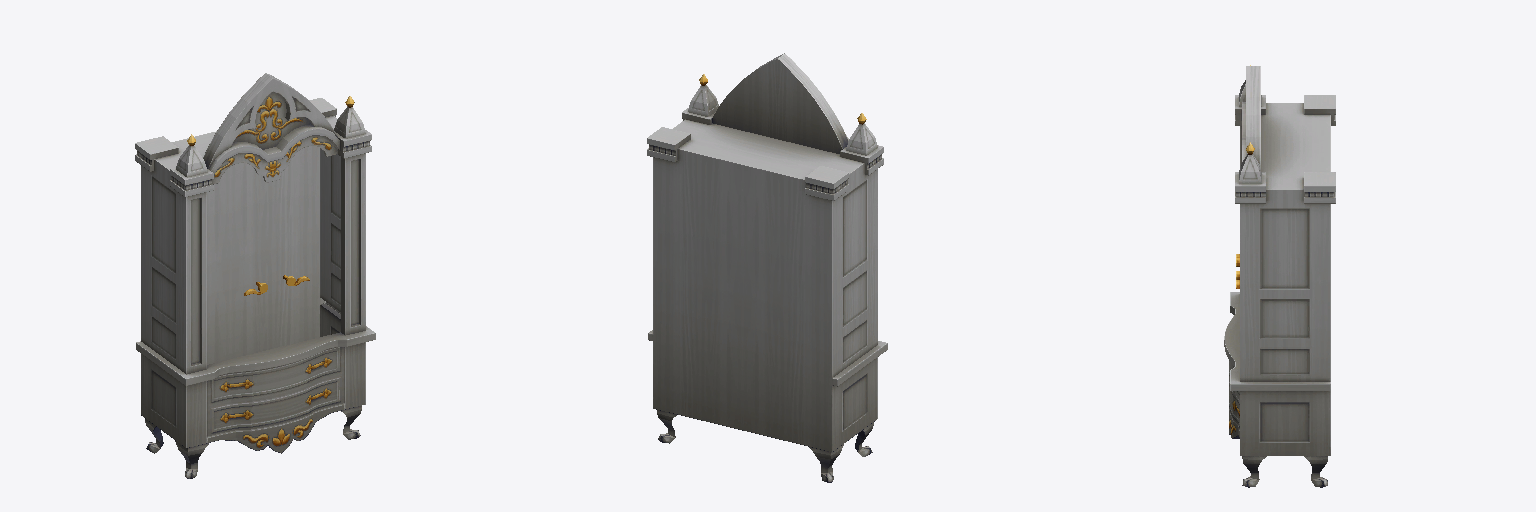
3 views of the same model, side by side, from view 1: azimuth 30°, elevation 25°; view 2: azimuth 150°, elevation 25°; view 3: azimuth 270°, elevation 25° (orthographic).
Parts seen in each view (by area): view 1: s4studio_mesh_0; view 2: s4studio_mesh_0; view 3: s4studio_mesh_0.
Boxes of the visible parts, box(x1,y1,x2,y2) form: s4studio_mesh_0: box(135, 73, 375, 478); s4studio_mesh_0: box(647, 53, 887, 482); s4studio_mesh_0: box(1224, 65, 1335, 487).
Size of the model in its own units: 1.44 by 2.75 by 0.7294.
Materials: 1 (1 with a texture image).